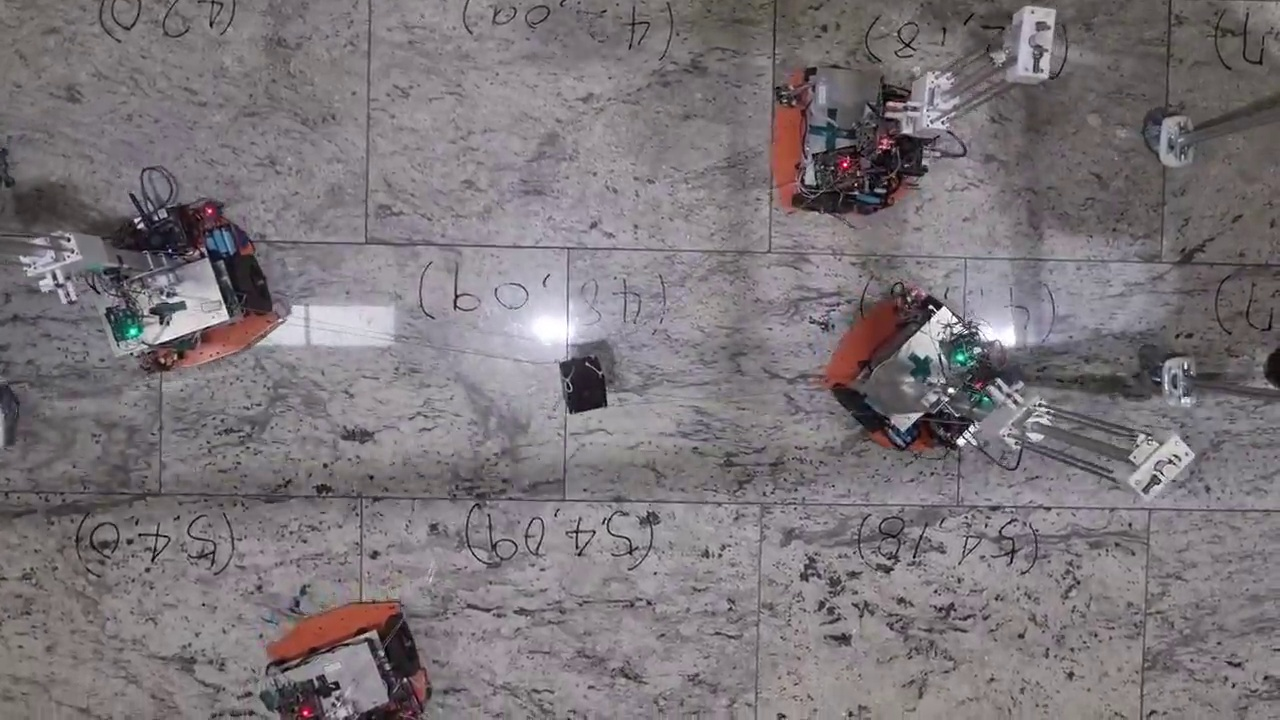e0: (560, 355, 608, 414)
r1: (830, 296, 977, 434)
r2: (792, 65, 867, 214)
r3: (125, 255, 272, 368)
r4: (265, 614, 420, 718)
y_+_axis_vector: (760, 504, 1151, 510)
y_-_axis_vector: (363, 498, 761, 504)
